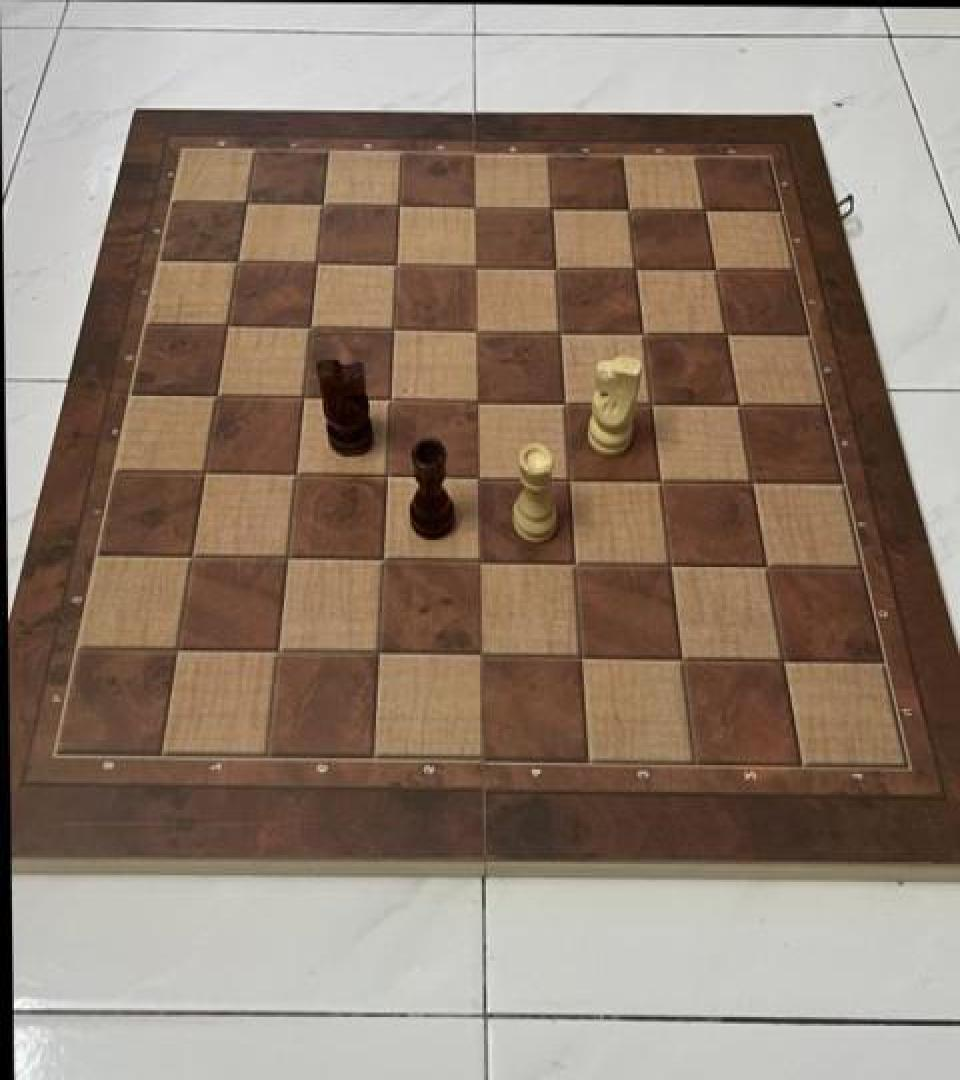xcorner: (378, 244, 414, 285), (457, 245, 493, 286), (537, 245, 573, 286), (617, 246, 653, 287), (292, 307, 328, 348), (375, 308, 411, 349), (458, 309, 494, 350), (458, 379, 494, 420), (545, 380, 581, 421), (632, 381, 668, 422), (187, 452, 223, 493), (733, 460, 769, 501), (459, 541, 495, 582), (555, 542, 591, 583), (259, 632, 295, 673), (359, 633, 395, 674), (764, 640, 800, 681), (229, 185, 265, 225), (305, 185, 341, 225), (381, 186, 417, 226), (457, 186, 493, 226), (533, 187, 569, 227), (610, 187, 646, 227), (687, 188, 723, 228), (220, 243, 256, 283), (299, 243, 335, 283), (697, 248, 733, 288), (210, 306, 246, 346), (541, 311, 577, 351), (624, 311, 660, 351), (708, 312, 744, 352), (199, 376, 235, 416), (285, 377, 321, 417), (371, 378, 407, 418), (720, 383, 756, 423), (277, 455, 313, 495), (368, 456, 404, 496), (458, 457, 494, 497), (550, 458, 586, 498), (641, 459, 677, 499), (173, 537, 209, 577), (268, 539, 304, 579), (363, 540, 399, 580), (651, 545, 687, 585), (748, 546, 784, 586), (159, 630, 195, 670), (460, 636, 496, 676), (561, 637, 597, 677), (662, 639, 698, 679)
